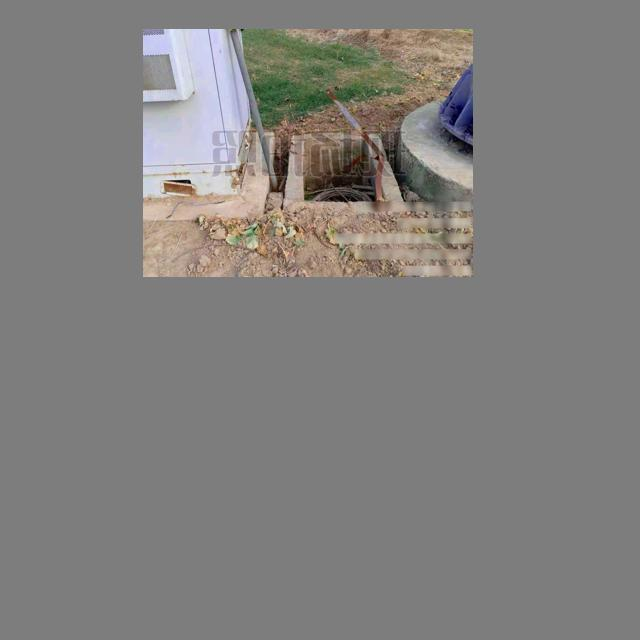lose: (302, 133, 386, 202)
